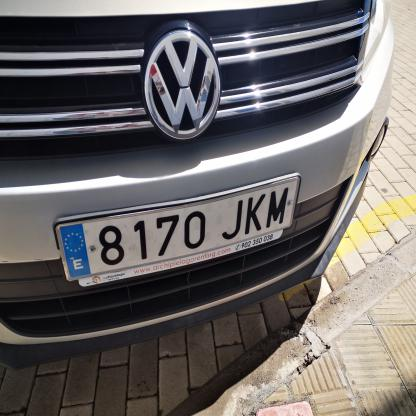patente: (56, 179, 299, 282)
